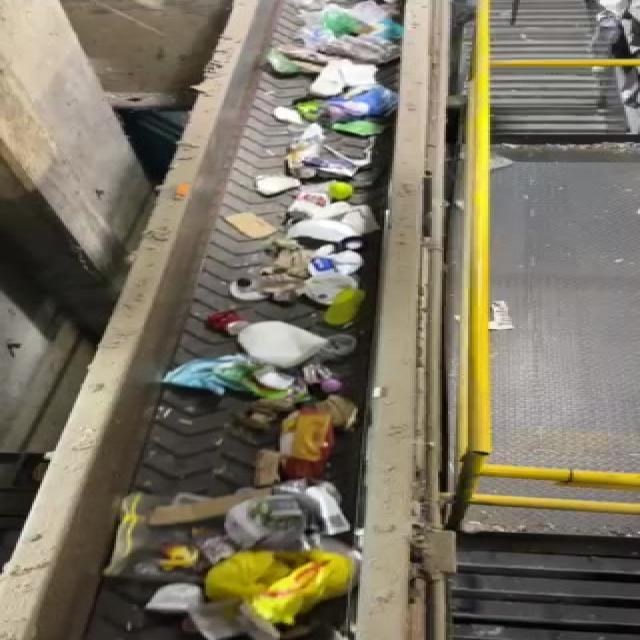paper: (152, 494, 364, 551), (262, 397, 337, 488)
pp: (167, 553, 371, 622)
